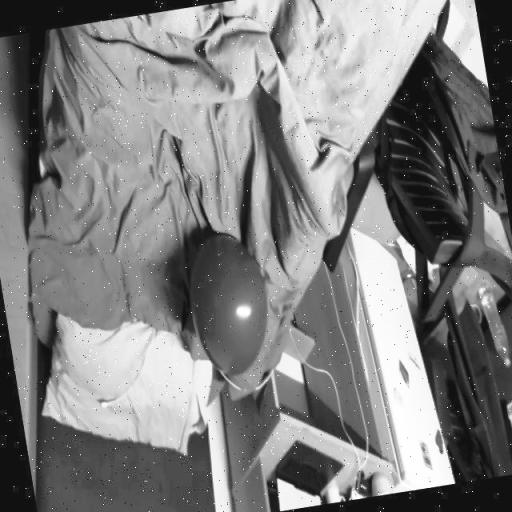balloon: (171, 222, 289, 396)
